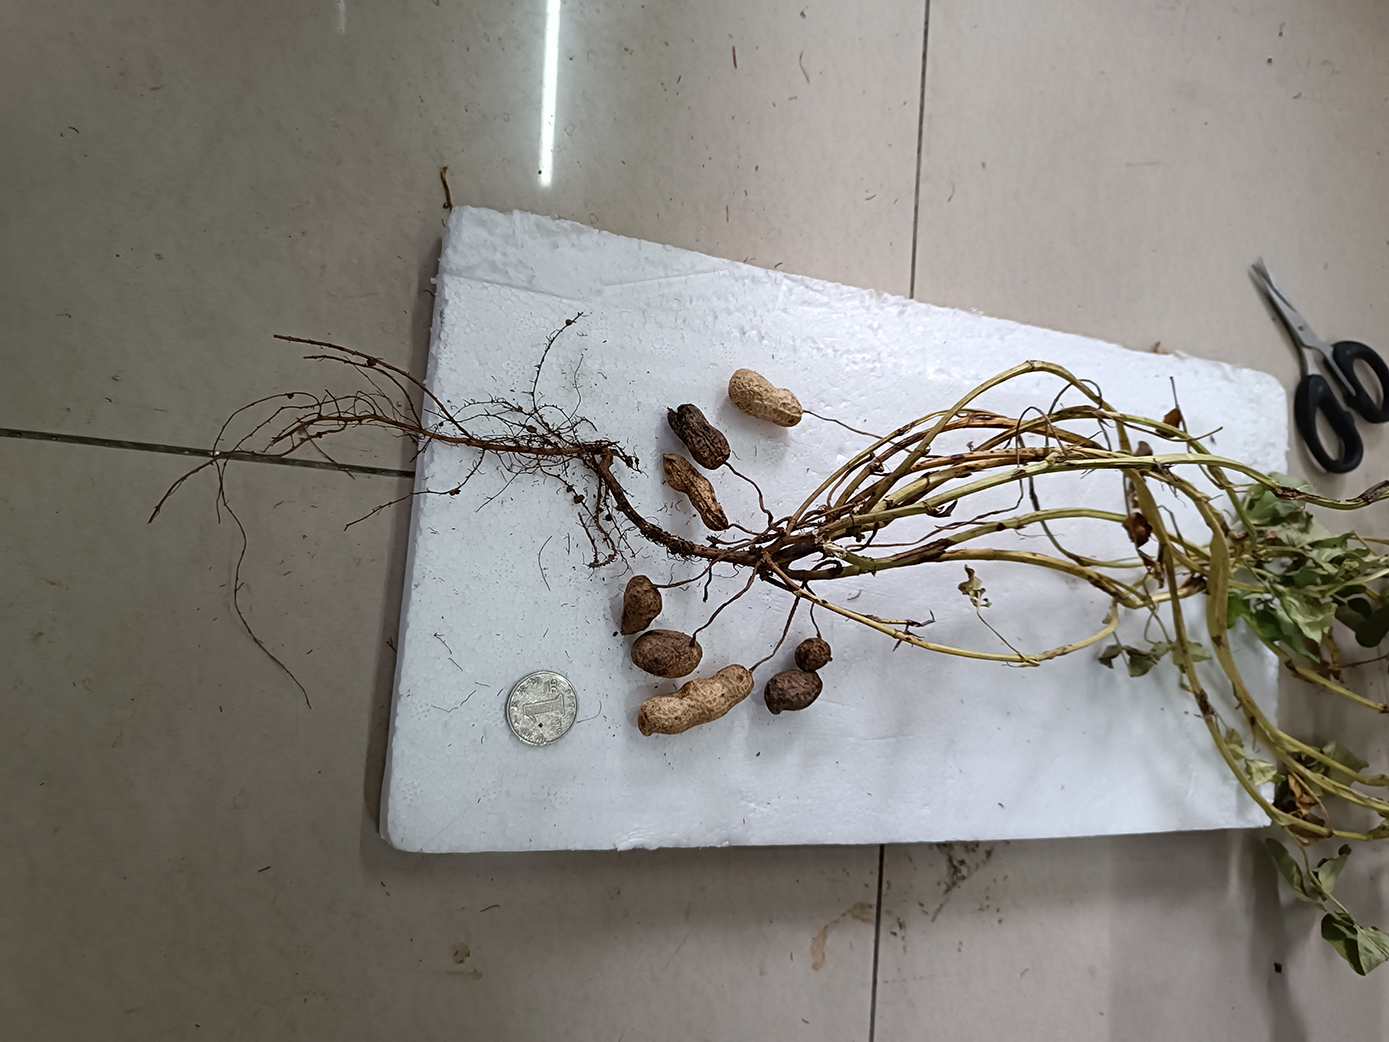h: (637, 664, 754, 738), (727, 369, 803, 426)
l: (663, 455, 730, 533), (667, 402, 732, 470), (633, 630, 704, 678), (764, 667, 823, 718), (617, 575, 662, 634), (796, 637, 832, 669)
